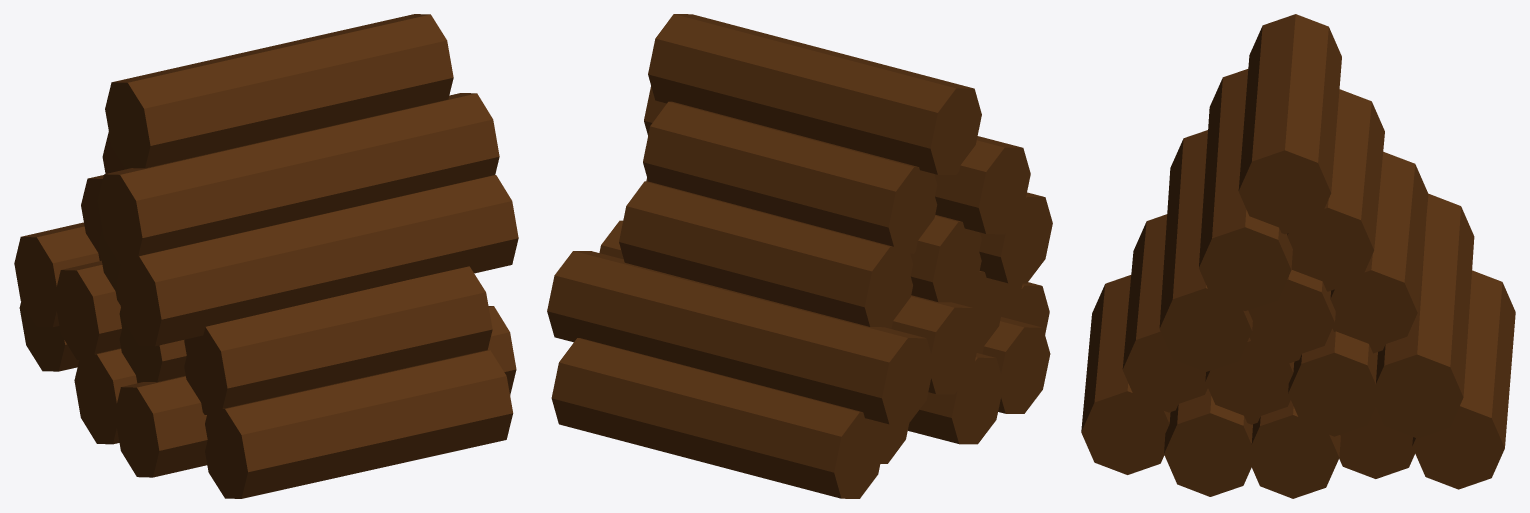
The model's file is Smithworkshop_WoodPile.fbx.
3 renders of one model, left to right at view 1: azimuth 30°, elevation 25°; view 2: azimuth 150°, elevation 25°; view 3: azimuth 270°, elevation 25°, orthographic. The views are drawn at different scales.
Visible parts, largest first — view 1: Firewood; view 2: Firewood; view 3: Firewood.
Part boxes in pixels (x1,y1,x2,y2): Firewood: (14, 14, 518, 498); Firewood: (547, 14, 1052, 498); Firewood: (1081, 14, 1515, 498).
Size of the model in its own units: 95.86 by 89.56 by 105.
